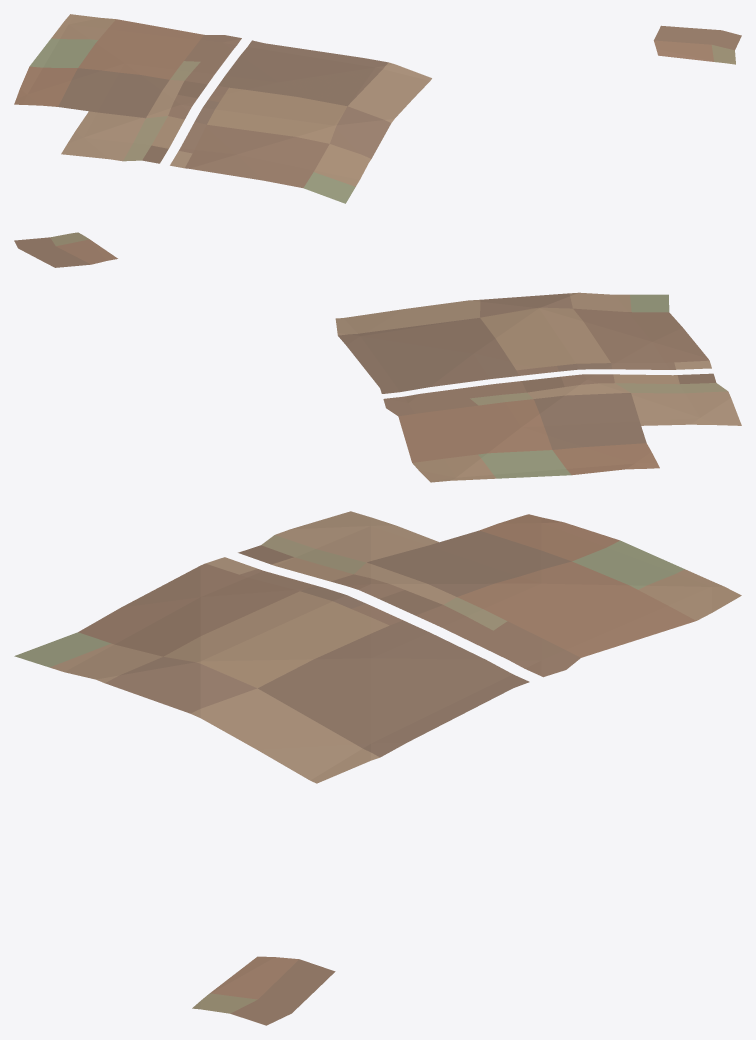
Rendered from farm_-4_7_soil.glb.
3 renders of one model, top to bottom at view 1: azimuth 30°, elevation 25°; view 2: azimuth 150°, elevation 25°; view 3: azimuth 270°, elevation 25°, orthographic. The views are drawn at different scales.
Parts seen in each view (by area): view 1: geometry_0; view 2: geometry_0; view 3: geometry_0.
Boxes of the visible parts, box(x1,y1,x2,y2) form: geometry_0: box(14, 14, 741, 203); geometry_0: box(14, 232, 741, 482); geometry_0: box(14, 511, 741, 1025).
Size of the model in its own units: 537 by 29.87 by 342.
